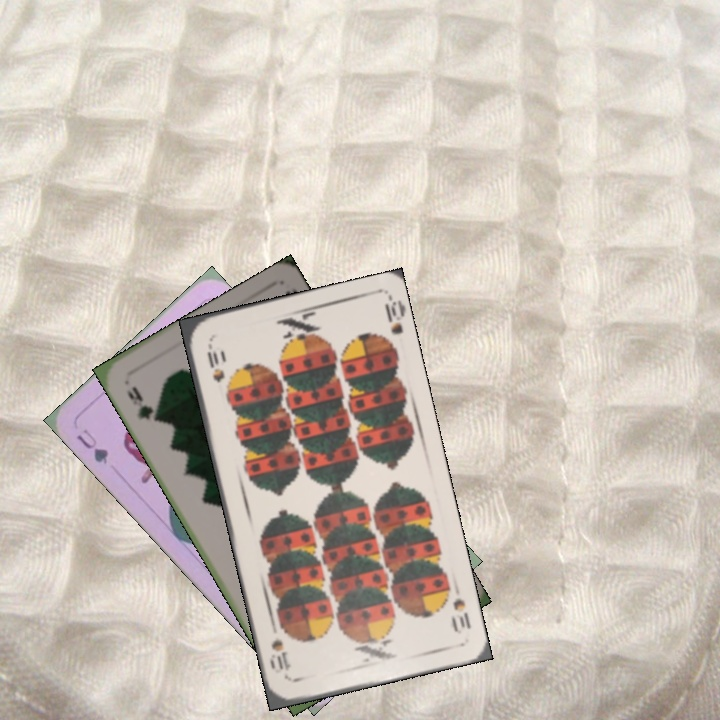G9: (122, 382, 163, 426)
GU: (72, 425, 111, 467)
S10: (447, 579, 474, 637), (203, 339, 227, 385)
